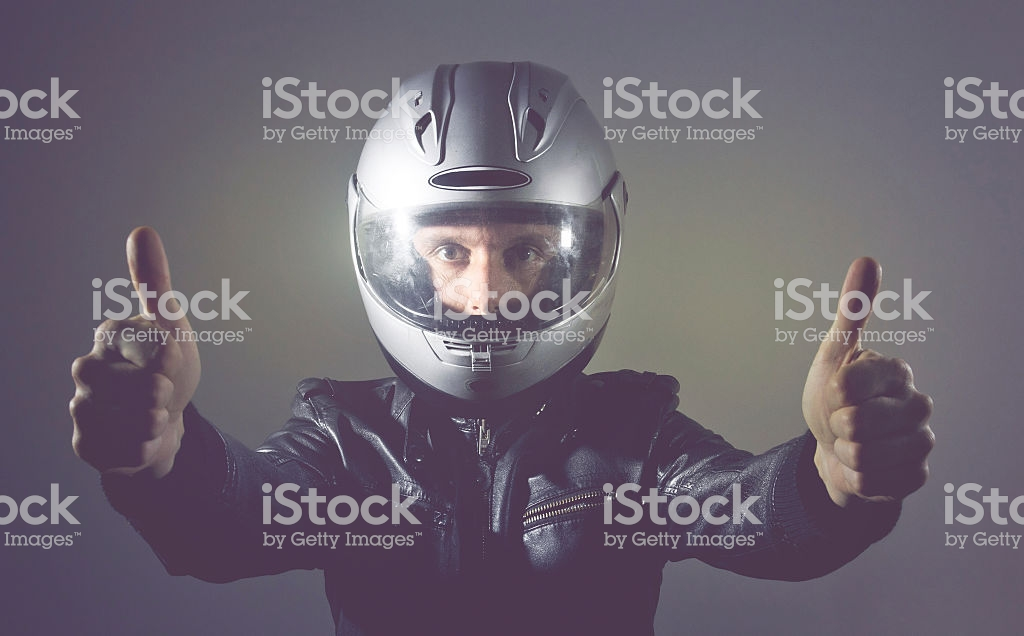helmet: (353, 81, 641, 374)
